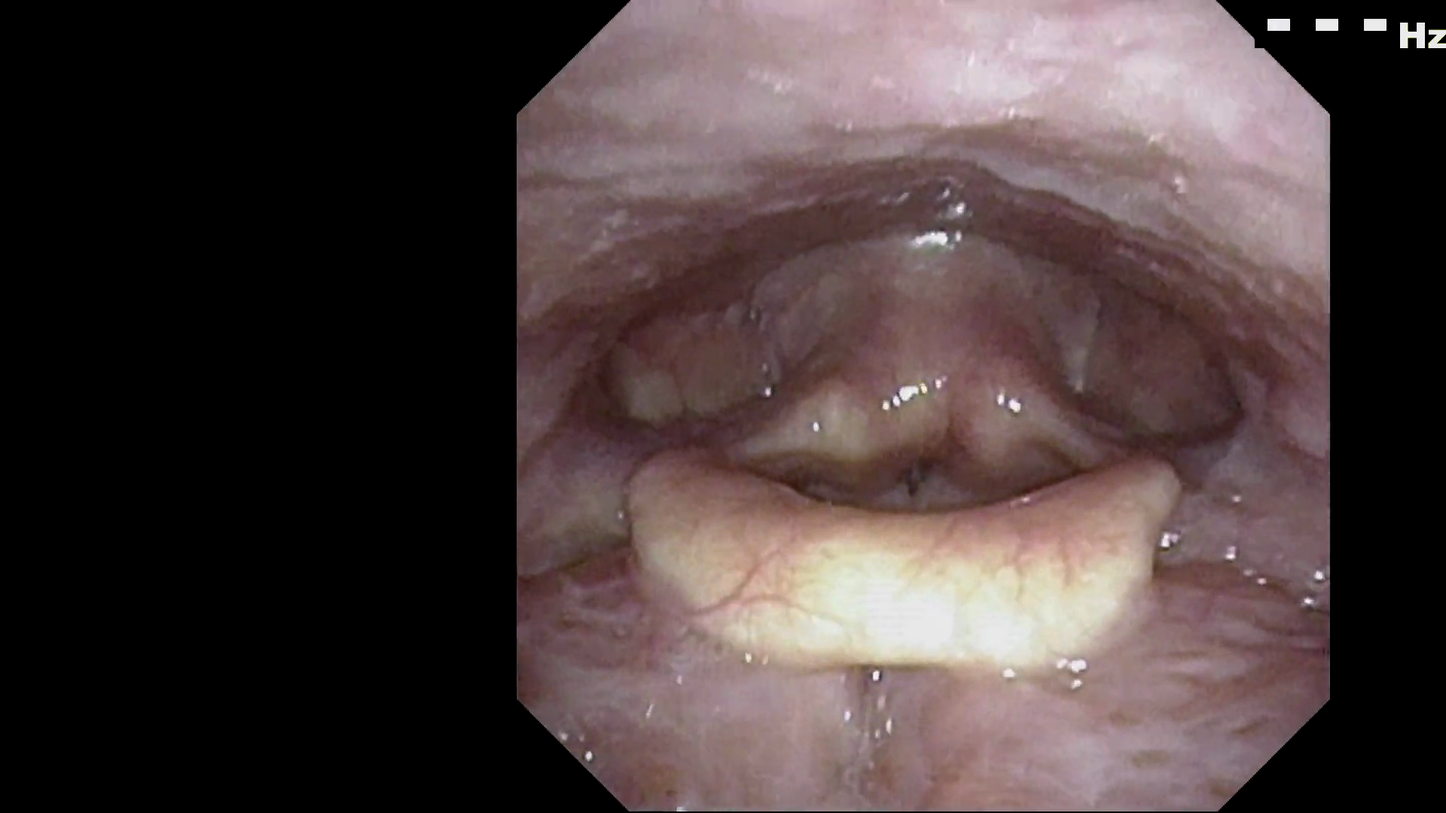epiglottis: (597, 424, 1227, 707)
trachea: (861, 402, 976, 542)
